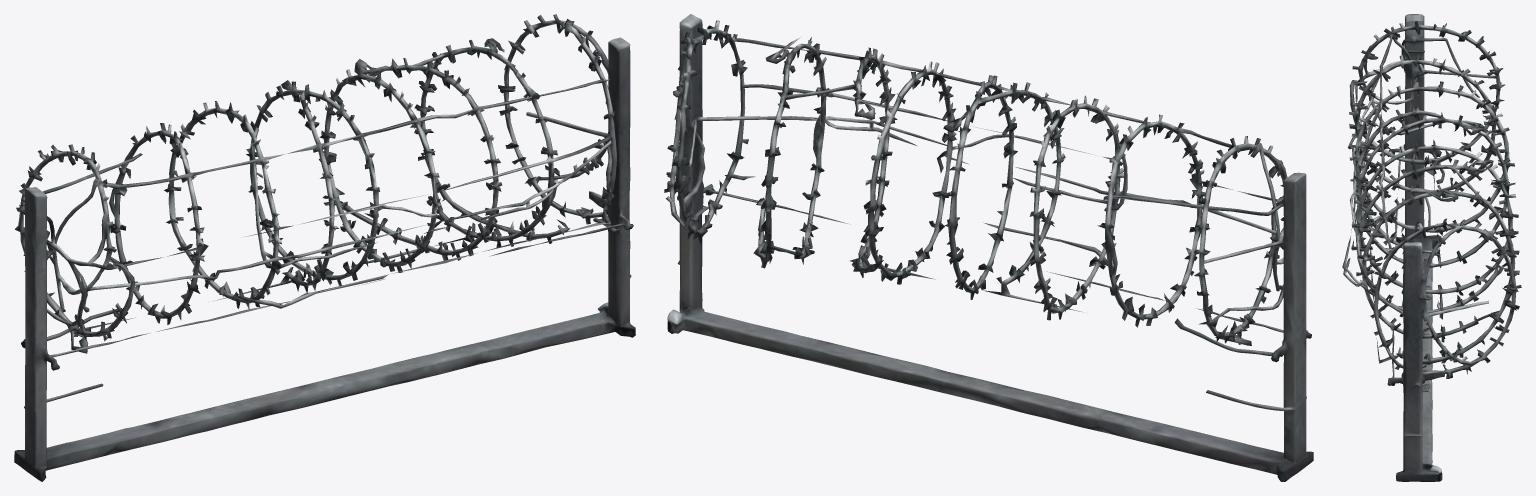
File: base_wire.glb
The picture shows the model from 3 angles, left to right: view 1: azimuth 30°, elevation 25°; view 2: azimuth 150°, elevation 25°; view 3: azimuth 270°, elevation 25°; orthographic projection. The views are drawn at different scales.
Visible parts, largest first — view 1: tripo_node_c97a5374-9fbe-494c-bc17-e668ea67e7e7; view 2: tripo_node_c97a5374-9fbe-494c-bc17-e668ea67e7e7; view 3: tripo_node_c97a5374-9fbe-494c-bc17-e668ea67e7e7.
Boxes of the visible parts, x1,y1,x2,y2 form: tripo_node_c97a5374-9fbe-494c-bc17-e668ea67e7e7: [14, 14, 635, 481]; tripo_node_c97a5374-9fbe-494c-bc17-e668ea67e7e7: [664, 14, 1313, 481]; tripo_node_c97a5374-9fbe-494c-bc17-e668ea67e7e7: [1342, 14, 1521, 481].
Bounding box in the file's own units: 1 × 0.4893 × 0.3172.
1 material, 1 textured.
